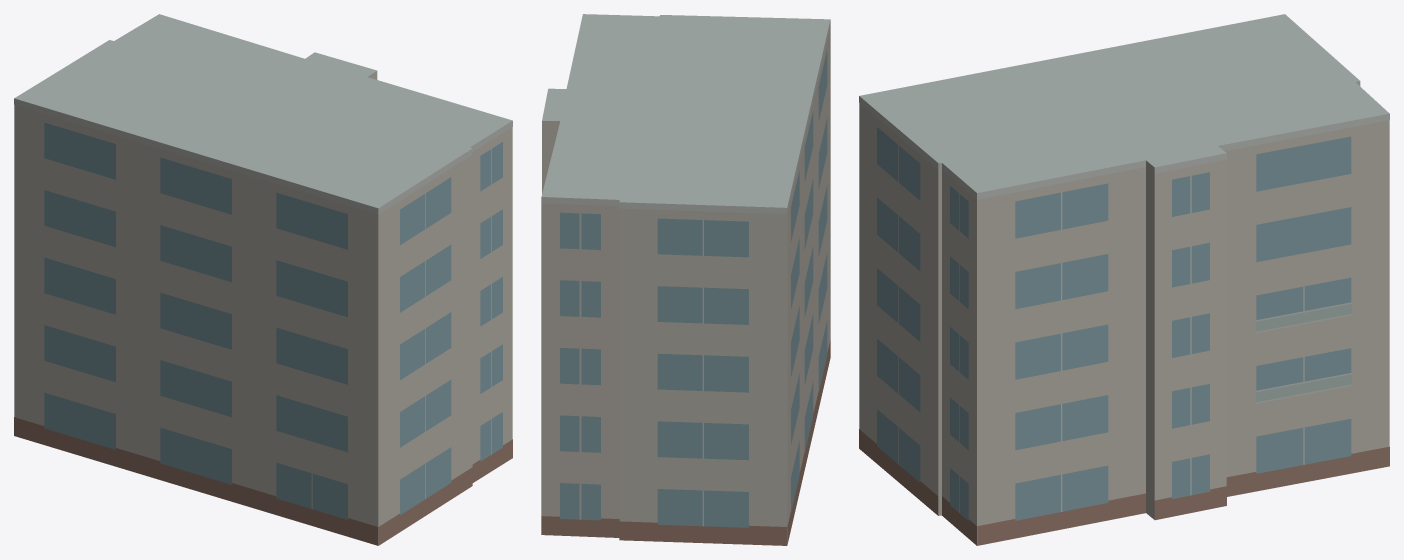
Rendered from survey-upis-32979173.glb.
The picture shows the model from 3 angles, left to right: view 1: azimuth 30°, elevation 25°; view 2: azimuth 150°, elevation 25°; view 3: azimuth 270°, elevation 25°; orthographic projection. The views are drawn at different scales.
Visible parts, largest first — view 1: survey-upis-32979173.tmp; view 2: survey-upis-32979173.tmp; view 3: survey-upis-32979173.tmp.
Boxes of the visible parts, x1,y1,x2,y2 form: survey-upis-32979173.tmp: (14,14,512,545); survey-upis-32979173.tmp: (541,14,830,545); survey-upis-32979173.tmp: (859,14,1389,545).
Size of the model in its own units: 14.17 by 13 by 17.74.
